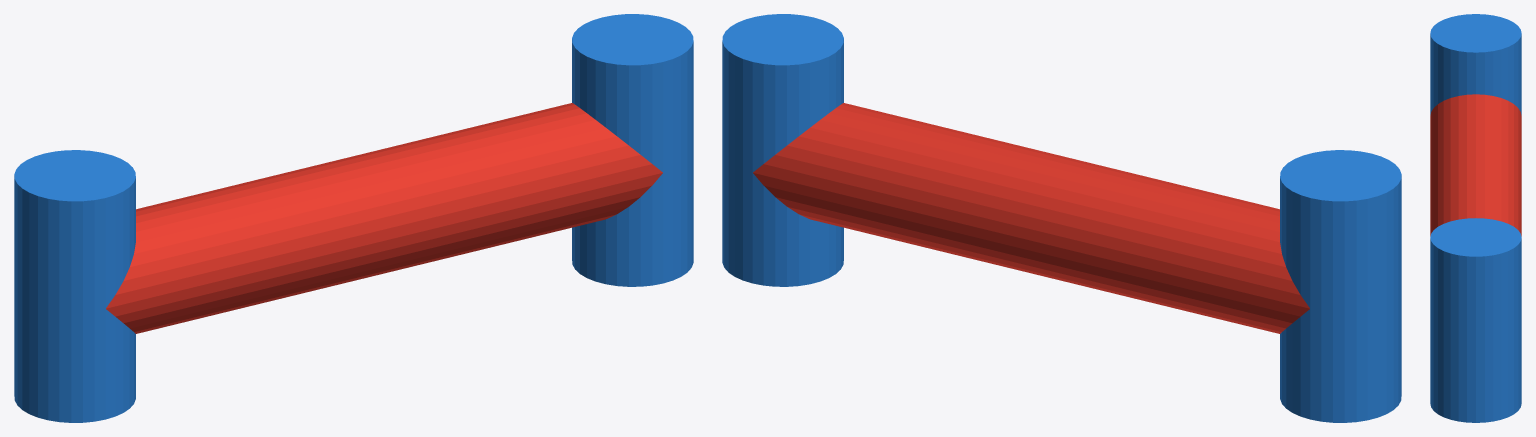
Rendered from Dna.gltf.
3 views of the same model, side by side, from view 1: azimuth 30°, elevation 25°; view 2: azimuth 150°, elevation 25°; view 3: azimuth 270°, elevation 25° (orthographic). The views are drawn at different scales.
Parts seen in each view (by area): view 1: Cylinder.002; view 2: Cylinder.002; view 3: Cylinder.002.
Boxes of the visible parts, x1,y1,x2,y2 form: Cylinder.002: [14, 14, 693, 422]; Cylinder.002: [722, 14, 1401, 422]; Cylinder.002: [1430, 14, 1521, 422].
Bounding box in the file's own units: 10.03 × 3.2 × 1.6.
